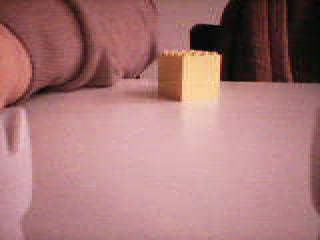legocube: (156, 47, 223, 106)
